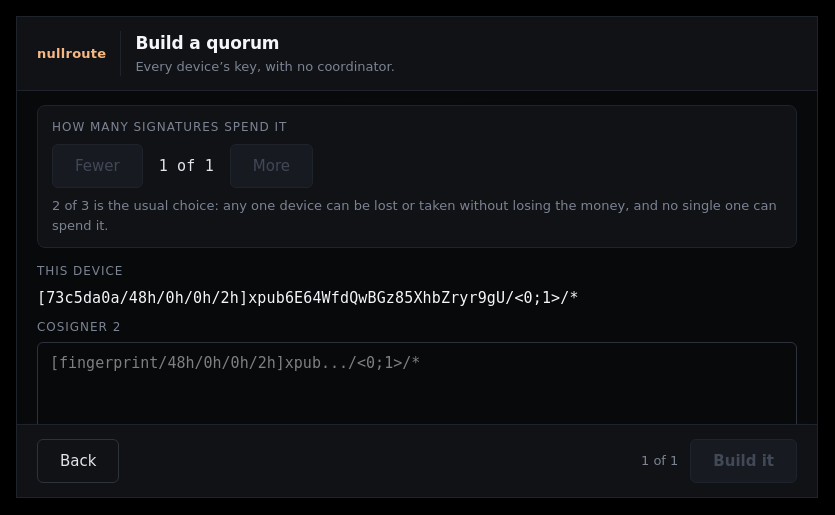
AssembleQuorumScreen › reports-a-refused-assembly
expect the text with test id "assemble-our-key" shows "73c5da0a": met, box x1=37 y1=289 x2=579 y2=307
Type "[73c5da0a/48h/0h/0h/2h]xpub6E64WfdQwBGz85XhbZryr9gU/<0;1>/*" into the text box with test id "assemble-key-1" at (417, 386), box x1=37 y1=342 x2=797 y2=430
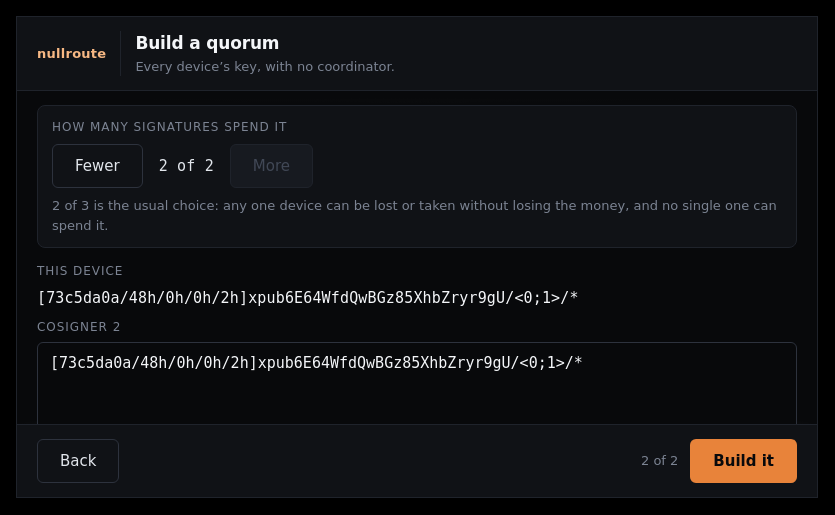
Click the button with test id "assemble-build" at (744, 461), box x1=690 y1=439 x2=797 y2=483
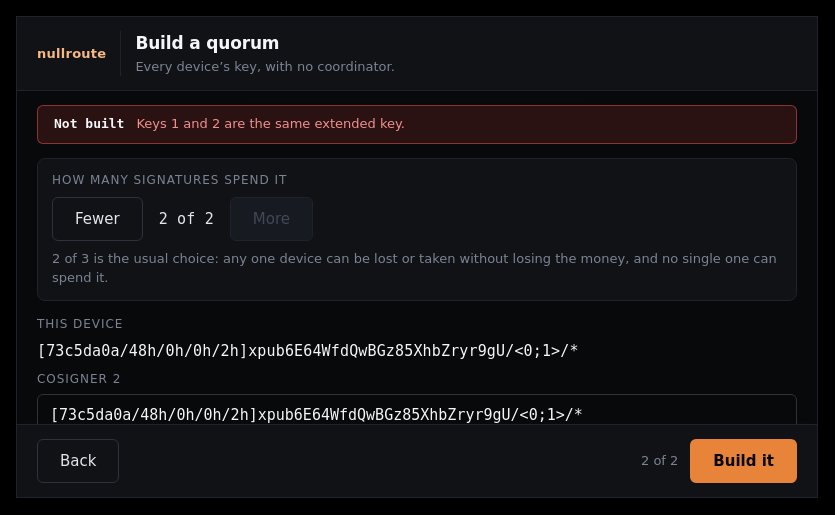
expect the element with test id "assemble-error" shows "same extended key": met, box x1=136 y1=116 x2=405 y2=131
